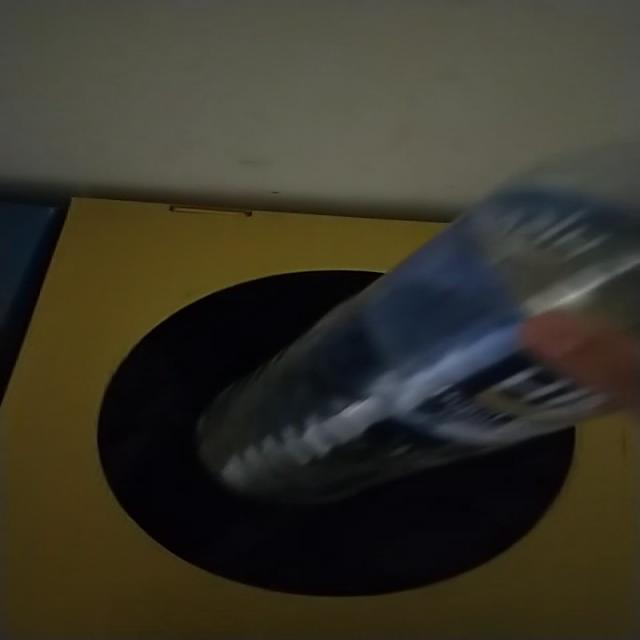Plastic: (197, 180, 640, 504)
